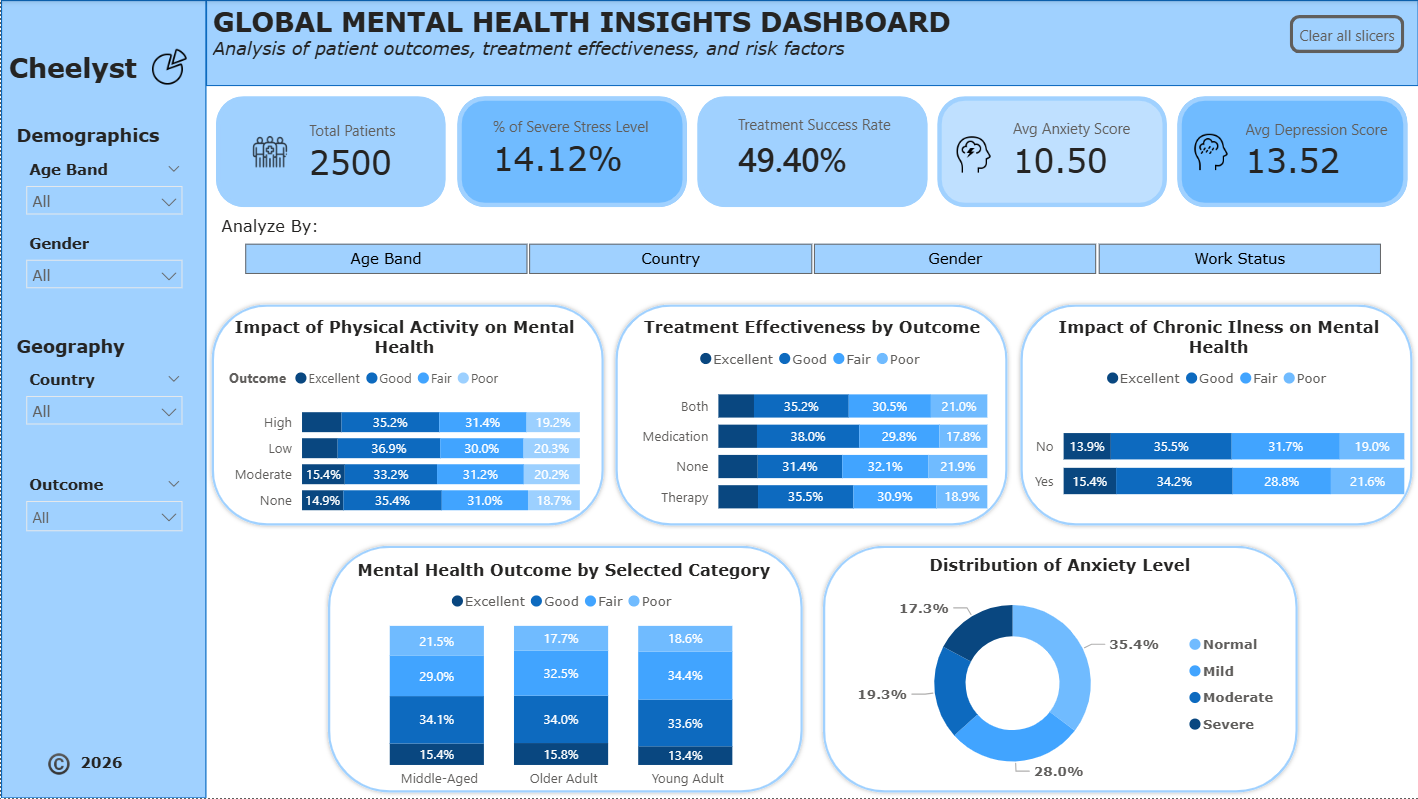

Layout of this report page (visuals, bound fields, positions):
{"tool":"powerbi","page":{"name":"Page 1","canvas":[1280,720],"ordinal":0},"visuals":[{"type":"shape","box":[0,0,185.2,720],"z":0},{"type":"shape","box":[411.2,87.2,207.1,100],"z":0,"group":"g4"},{"type":"group","id":"g1","title":"Group 1","box":[628.2,87.2,207.7,100],"z":0,"group":"g12"},{"type":"shape","box":[628.2,87.2,207.7,100],"z":0,"group":"g1"},{"type":"shape","box":[844,87.2,207.1,100],"z":0,"group":"g9"},{"type":"shape","box":[1061,87.2,207.7,100],"z":0,"group":"g8"},{"type":"shape","box":[550.4,270.9,361.5,207.3],"z":0,"group":"g13"},{"type":"shape","box":[914.8,270.9,361.5,207.3],"z":0,"group":"g16"},{"type":"group","id":"g2","title":"Group 6","box":[736.7,488.4,436.1,230.5],"z":0,"group":"g11"},{"type":"shape","box":[736.7,488.4,436.1,230.5],"z":0,"group":"g2"},{"type":"group","id":"g3","title":"Group 7","box":[1.4,41.9,177.8,42.1],"z":1000},{"type":"shape","box":[194.2,87.2,207.1,100],"z":1000,"group":"g5"},{"type":"group","id":"g4","title":"Group 1","box":[411.2,87.2,207.1,100],"z":1000,"group":"g12"},{"type":"shape","box":[186,270.9,361.5,207.3],"z":1000,"group":"g14"},{"type":"shape","box":[290.7,488.4,436.1,230.5],"z":1000,"group":"g6"},{"type":"group","id":"g5","title":"Group 3","box":[194.2,87.2,207.4,100],"z":2000,"group":"g12"},{"type":"slicer","fields":{"Values":["Global Mental Health Dataset.Gender"]},"box":[12.2,206.7,161.4,64.8],"z":2000},{"type":"group","id":"g6","title":"Group 12","box":[290.7,488.4,436.1,231.4],"z":2000,"group":"g11"},{"type":"group","id":"g7","title":"Group 8","box":[184.6,0,1094.6,77],"z":3000},{"type":"group","id":"g8","title":"Group 14","box":[1061,87.2,207.7,100],"z":3000,"group":"g12"},{"type":"donutChart","title":"Distribution of Anxiety Level","fields":{"Category":["Global Mental Health Dataset.Anxiety Level"],"Y":["Divide(CountNonNull(Global Mental Health Dataset.Patient ID), ScopedEval(CountNonNull(Global Mental Health Dataset.Patie"]},"box":[747.6,500.6,412.8,214],"z":3000,"group":"g2"},{"type":"group","id":"g9","title":"Group 16","box":[844,87.2,207.1,100],"z":4000,"group":"g12"},{"type":"slicer","title":"Analyze By:","fields":{"Values":["Demography Parameter.Parameter"]},"box":[194.2,195.3,1074.4,59.3],"z":4000},{"type":"actionButton","box":[1162.2,13.3,103.3,34.4],"z":5000},{"type":"shape","box":[184.6,0,1093.4,77.7],"z":6000,"group":"g7"},{"type":"image","box":[125.1,41.9,54.1,36.5],"z":6000,"group":"g3"},{"type":"slicer","fields":{"Values":["Global Mental Health Dataset.Age Band"]},"box":[12.2,139.4,161.4,64.8],"z":6000},{"type":"hundredPercentStackedColumnChart","title":"Mental Health Outcome by Selected Category","fields":{"Category":["Global Mental Health Dataset.Age Band","Global Mental Health Dataset.Country","Global Mental Health Dataset.Gender","Global Mental Health Dataset.Work Status"],"Y":["CountNonNull(Global Mental Health Dataset.Patient ID)"],"Series":["Outcome Dim.Outcome"]},"box":[300.7,504.8,413.2,215],"z":6000,"group":"g6"},{"type":"cardVisual","fields":{"Data":["Global Mental Health Dataset.% of Severe Stress Level"]},"box":[429.5,90.8,176.2,85.1],"z":7000,"group":"g4"},{"type":"cardVisual","fields":{"Data":["Demography Parameter.Treatment Success Rate"]},"box":[650.8,90.8,176.2,85.1],"z":7000,"group":"g1"},{"type":"cardVisual","fields":{"Data":["Global Mental Health Dataset.Avg Anxiety Score"]},"box":[897.7,92.6,141.2,85],"z":7000,"group":"g18"},{"type":"cardVisual","fields":{"Data":["Global Mental Health Dataset.Avg Depression Score"]},"box":[1107.6,93.9,157.4,82.5],"z":7000,"group":"g17"},{"type":"hundredPercentStackedBarChart","title":"Impact of Physical Activity on Mental Health","fields":{"Category":["Global Mental Health Dataset.Physical Activity"],"Series":["Outcome Dim.Outcome"],"Y":["CountNonNull(Global Mental Health Dataset.Patient ID)"]},"box":[201,286.3,326.5,189.2],"z":7000,"group":"g14"},{"type":"slicer","fields":{"Values":["Global Mental Health Dataset.Country"]},"box":[12.2,328.9,161.4,63.6],"z":7000},{"type":"textbox","box":[185.6,0,700.1,77],"z":8000,"group":"g7"},{"type":"cardVisual","fields":{"Data":["Global Mental Health Dataset.Total Patients"]},"box":[263.9,98.3,110,77],"z":8000,"group":"g15"},{"type":"hundredPercentStackedBarChart","title":"Treatment Effectiveness by Outcome","fields":{"Y":["CountNonNull(Global Mental Health Dataset.Patient ID)"],"Category":["Global Mental Health Dataset.Treatment"],"Series":["Outcome Dim.Outcome"]},"box":[568.6,286.3,326.5,189.2],"z":8000,"group":"g13"},{"type":"slicer","fields":{"Values":["Outcome Dim.Outcome"]},"box":[12.2,424.3,161.4,63.6],"z":8000},{"type":"group","id":"g10","title":"Group 11","box":[186,270.9,1090.7,209.3],"z":9000},{"type":"textbox","box":[1.4,42.1,127,41.8],"z":10000,"group":"g3"},{"type":"image","box":[221,117.1,42.9,38.9],"z":10000,"group":"g15"},{"type":"hundredPercentStackedBarChart","title":"Impact of Chronic Ilness on Mental Health","fields":{"Category":["Global Mental Health Dataset.Chronic Illness"],"Series":["Outcome Dim.Outcome"],"Y":["CountNonNull(Global Mental Health Dataset.Patient ID)"]},"box":[924.7,286.6,345.3,194],"z":10000,"group":"g16"},{"type":"group","id":"g11","title":"Group 13","box":[290.7,488.4,882.6,231.4],"z":10000},{"type":"group","id":"g12","title":"Group 17","box":[194.2,87.2,1074.4,100],"z":11000},{"type":"group","id":"g13","title":"Group 5","box":[550.4,270.9,361.5,207.3],"z":11000,"group":"g10"},{"type":"image","box":[1065.1,121.4,51.2,32.5],"z":11002,"group":"g17"},{"type":"textbox","box":[8.6,107.6,154.1,31.8],"z":12000},{"type":"group","id":"g14","title":"Group 9","box":[186,270.9,361.5,207.3],"z":12000,"group":"g10"},{"type":"group","id":"g15","title":"Group 2","box":[221,98.3,152.9,77],"z":13000,"group":"g5"},{"type":"group","id":"g16","title":"Group 10","box":[914.8,270.9,361.5,209.8],"z":13000,"group":"g10"},{"type":"textbox","box":[8.6,297.4,154.1,31.8],"z":13000},{"type":"group","id":"g17","title":"Group 4","box":[1065.1,93.9,199.9,82.5],"z":13002,"group":"g8"},{"type":"image","box":[855.2,122.6,42.5,32.5],"z":13004,"group":"g18"},{"type":"group","id":"g18","title":"Group 15","box":[855.2,92.6,183.7,85],"z":13005,"group":"g9"},{"type":"textbox","box":[66,672.6,55,31.8],"z":14000},{"type":"image","box":[39.1,672.6,25.7,31.8],"z":14001}]}

Visuals, with their boxes in screenshot pixels (x1, y1, x2, y2), scaled from the page's 1280x720 canvas onto the 1418x799 screenshot:
shape: 0/0/205/798
shape: 456/97/685/208
"Group 1" group: 696/97/926/208
shape: 696/97/926/208
shape: 935/97/1164/208
shape: 1175/97/1405/208
shape: 610/301/1010/531
shape: 1013/301/1414/531
"Group 6" group: 816/542/1299/798
shape: 816/542/1299/798
"Group 7" group: 2/46/199/93
shape: 215/97/445/208
"Group 1" group: 456/97/685/208
shape: 206/301/607/531
shape: 322/542/805/798
"Group 3" group: 215/97/445/208
slicer - Global Mental Health Dataset.Gender: 14/229/192/301
"Group 12" group: 322/542/805/798
"Group 8" group: 205/0/1417/85
"Group 14" group: 1175/97/1405/208
"Distribution of Anxiety Level" donutChart: 828/556/1286/793
"Group 16" group: 935/97/1164/208
"Analyze By:" slicer: 215/217/1405/283
actionButton: 1287/15/1402/53
shape: 205/0/1416/86
image: 139/46/199/87
slicer - Global Mental Health Dataset.Age Band: 14/155/192/227
"Mental Health Outcome by Selected Category" hundredPercentStackedColumnChart: 333/560/791/798
cardVisual - Global Mental Health Dataset.% of Severe Stress Level: 476/101/671/195
cardVisual - Demography Parameter.Treatment Success Rate: 721/101/916/195
cardVisual - Global Mental Health Dataset.Avg Anxiety Score: 994/103/1151/197
cardVisual - Global Mental Health Dataset.Avg Depression Score: 1227/104/1401/196
"Impact of Physical Activity on Mental Health" hundredPercentStackedBarChart: 223/318/584/528
slicer - Global Mental Health Dataset.Country: 14/365/192/436
textbox: 206/0/981/85
cardVisual - Global Mental Health Dataset.Total Patients: 292/109/414/195
"Treatment Effectiveness by Outcome" hundredPercentStackedBarChart: 630/318/992/528
slicer - Outcome Dim.Outcome: 14/471/192/541
"Group 11" group: 206/301/1414/533
textbox: 2/47/142/93
image: 245/130/292/173
"Impact of Chronic Ilness on Mental Health" hundredPercentStackedBarChart: 1024/318/1407/533
"Group 13" group: 322/542/1300/798
"Group 17" group: 215/97/1405/208
"Group 5" group: 610/301/1010/531
image: 1180/135/1237/171
textbox: 10/119/180/155
"Group 9" group: 206/301/607/531
"Group 2" group: 245/109/414/195
"Group 10" group: 1013/301/1414/533
textbox: 10/330/180/365
"Group 4" group: 1180/104/1401/196
image: 947/136/994/172
"Group 15" group: 947/103/1151/197
textbox: 73/746/134/782
image: 43/746/72/782
